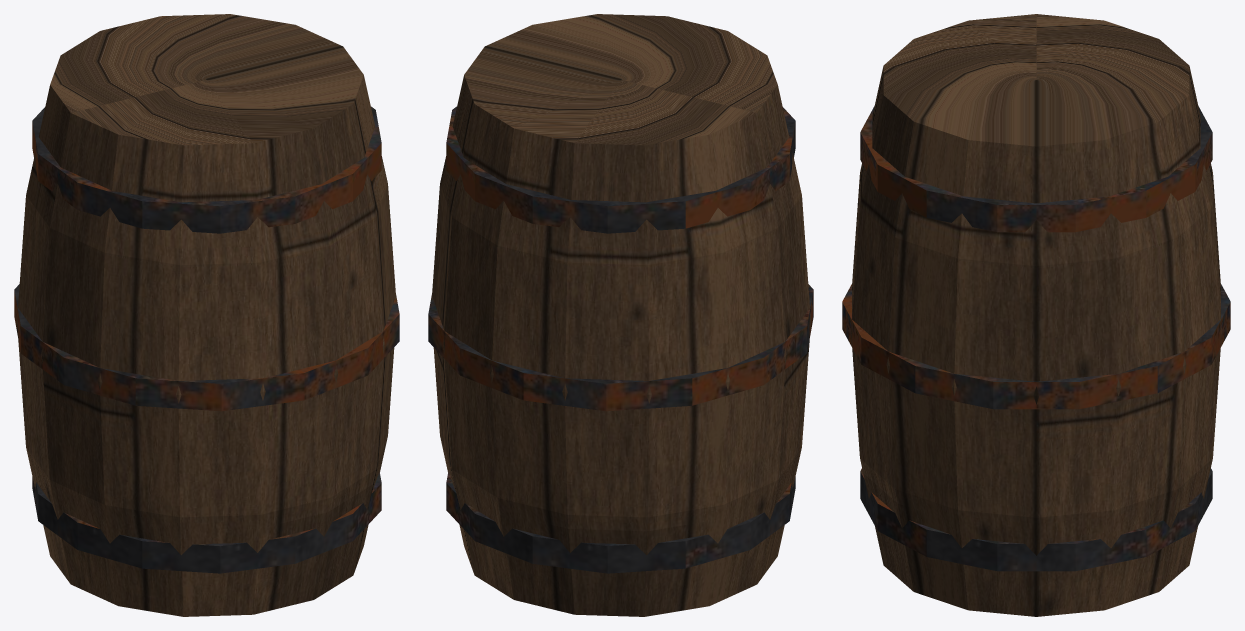
File: barrel_wood_a.glb
3 renders of one model, left to right at view 1: azimuth 30°, elevation 25°; view 2: azimuth 150°, elevation 25°; view 3: azimuth 270°, elevation 25°, orthographic.
Visible parts, largest first — view 1: barrel_wood_a; view 2: barrel_wood_a; view 3: barrel_wood_a.
Boxes of the visible parts, bbox=[...] form: barrel_wood_a: bbox=[14, 14, 399, 616]; barrel_wood_a: bbox=[428, 14, 813, 616]; barrel_wood_a: bbox=[842, 14, 1230, 616].
Size of the model in its own units: 0.63 by 0.86 by 0.644.
2 materials, 2 textured.
